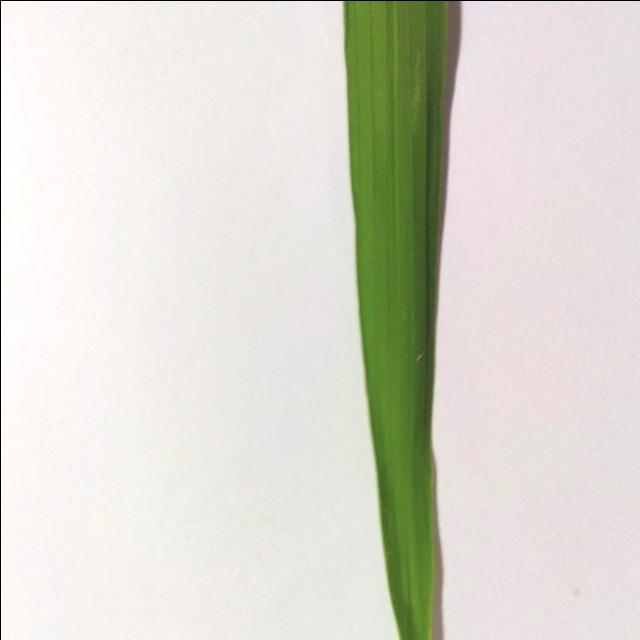healthy: (310, 0, 483, 640)
